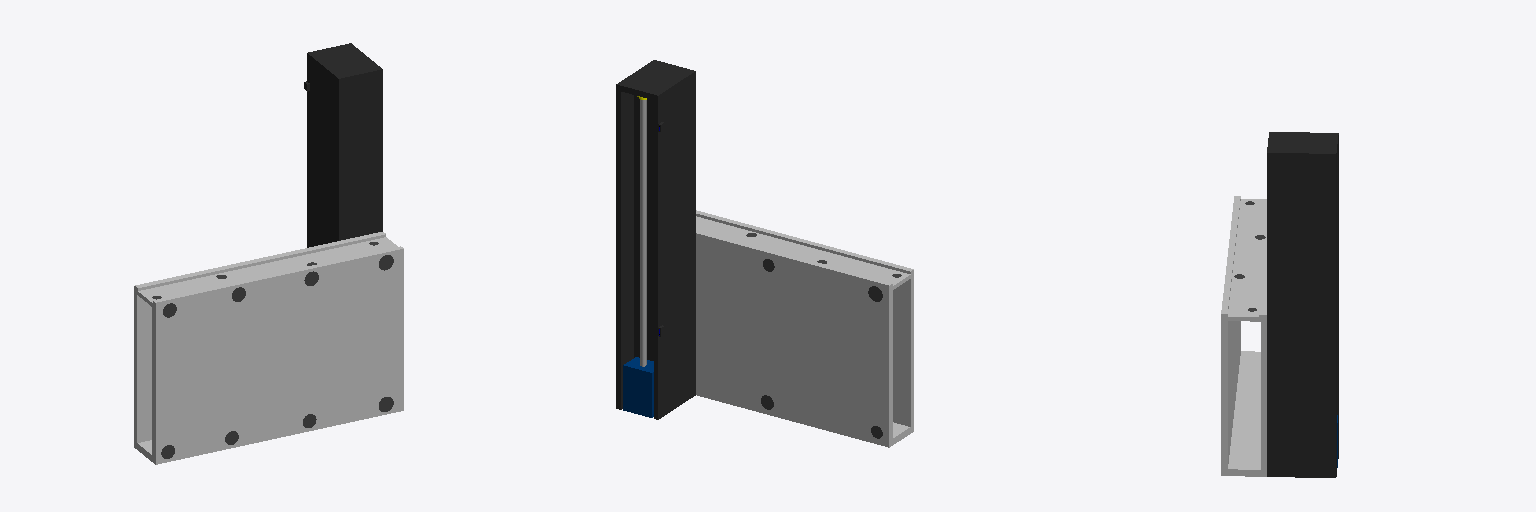
The model's file is AngularComponent.obj.
3 views of the same model, side by side, from view 1: azimuth 30°, elevation 25°; view 2: azimuth 150°, elevation 25°; view 3: azimuth 270°, elevation 25° (orthographic).
Parts seen in each view (by area): view 1: Mesh2 Group1 Model, Mesh1 Group2 Group1 Model; view 2: Mesh2 Group1 Model, Mesh1 Group2 Group1 Model; view 3: Mesh1 Group2 Group1 Model, Mesh2 Group1 Model.
Boxes of the visible parts, <box> form: Mesh2 Group1 Model: <box>134,232,403,464</box>; Mesh1 Group2 Group1 Model: <box>304,43,382,247</box>; Mesh2 Group1 Model: <box>696,210,913,447</box>; Mesh1 Group2 Group1 Model: <box>616,60,695,419</box>; Mesh1 Group2 Group1 Model: <box>1267,132,1338,477</box>; Mesh2 Group1 Model: <box>1221,196,1266,476</box>.
Size of the model in its own units: 0.364 by 0.4572 by 0.1505.